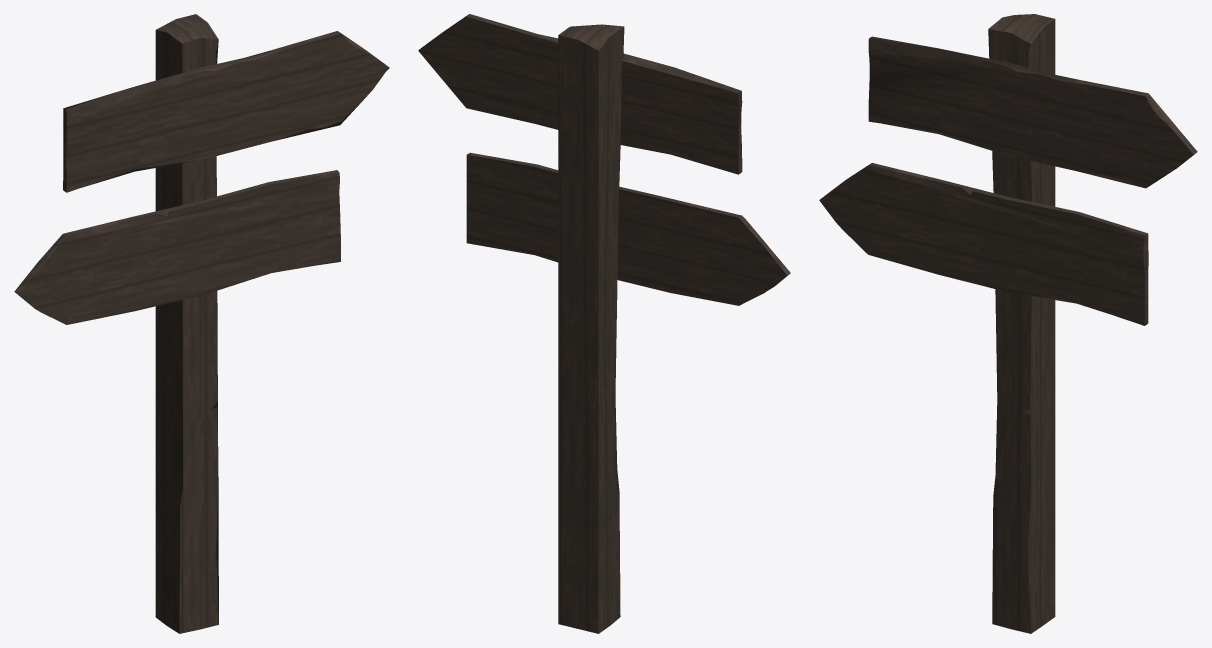
File: Signpost.fbx
3 renders of one model, left to right at view 1: azimuth 30°, elevation 25°; view 2: azimuth 150°, elevation 25°; view 3: azimuth 330°, elevation 25°, orthographic.
Parts seen in each view (by area): view 1: SignpostLeft, SignpostRight, SignpostPole; view 2: SignpostPole, SignpostLeft, SignpostRight; view 3: SignpostLeft, SignpostRight, SignpostPole.
Boxes of the visible parts, x1,y1,x2,y2 form: SignpostLeft: (14,170,340,324); SignpostRight: (63,31,389,192); SignpostPole: (155,14,218,633); SignpostPole: (558,24,624,633); SignpostLeft: (466,152,790,305); SignpostRight: (418,14,742,174); SignpostLeft: (819,163,1148,325); SignpostRight: (868,36,1197,188); SignpostPole: (988,14,1055,633).
Size of the model in its own units: 0.5246 by 0.8022 by 0.0747.
